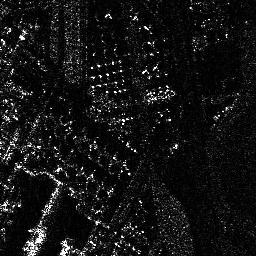ship: (27, 227, 46, 256)
